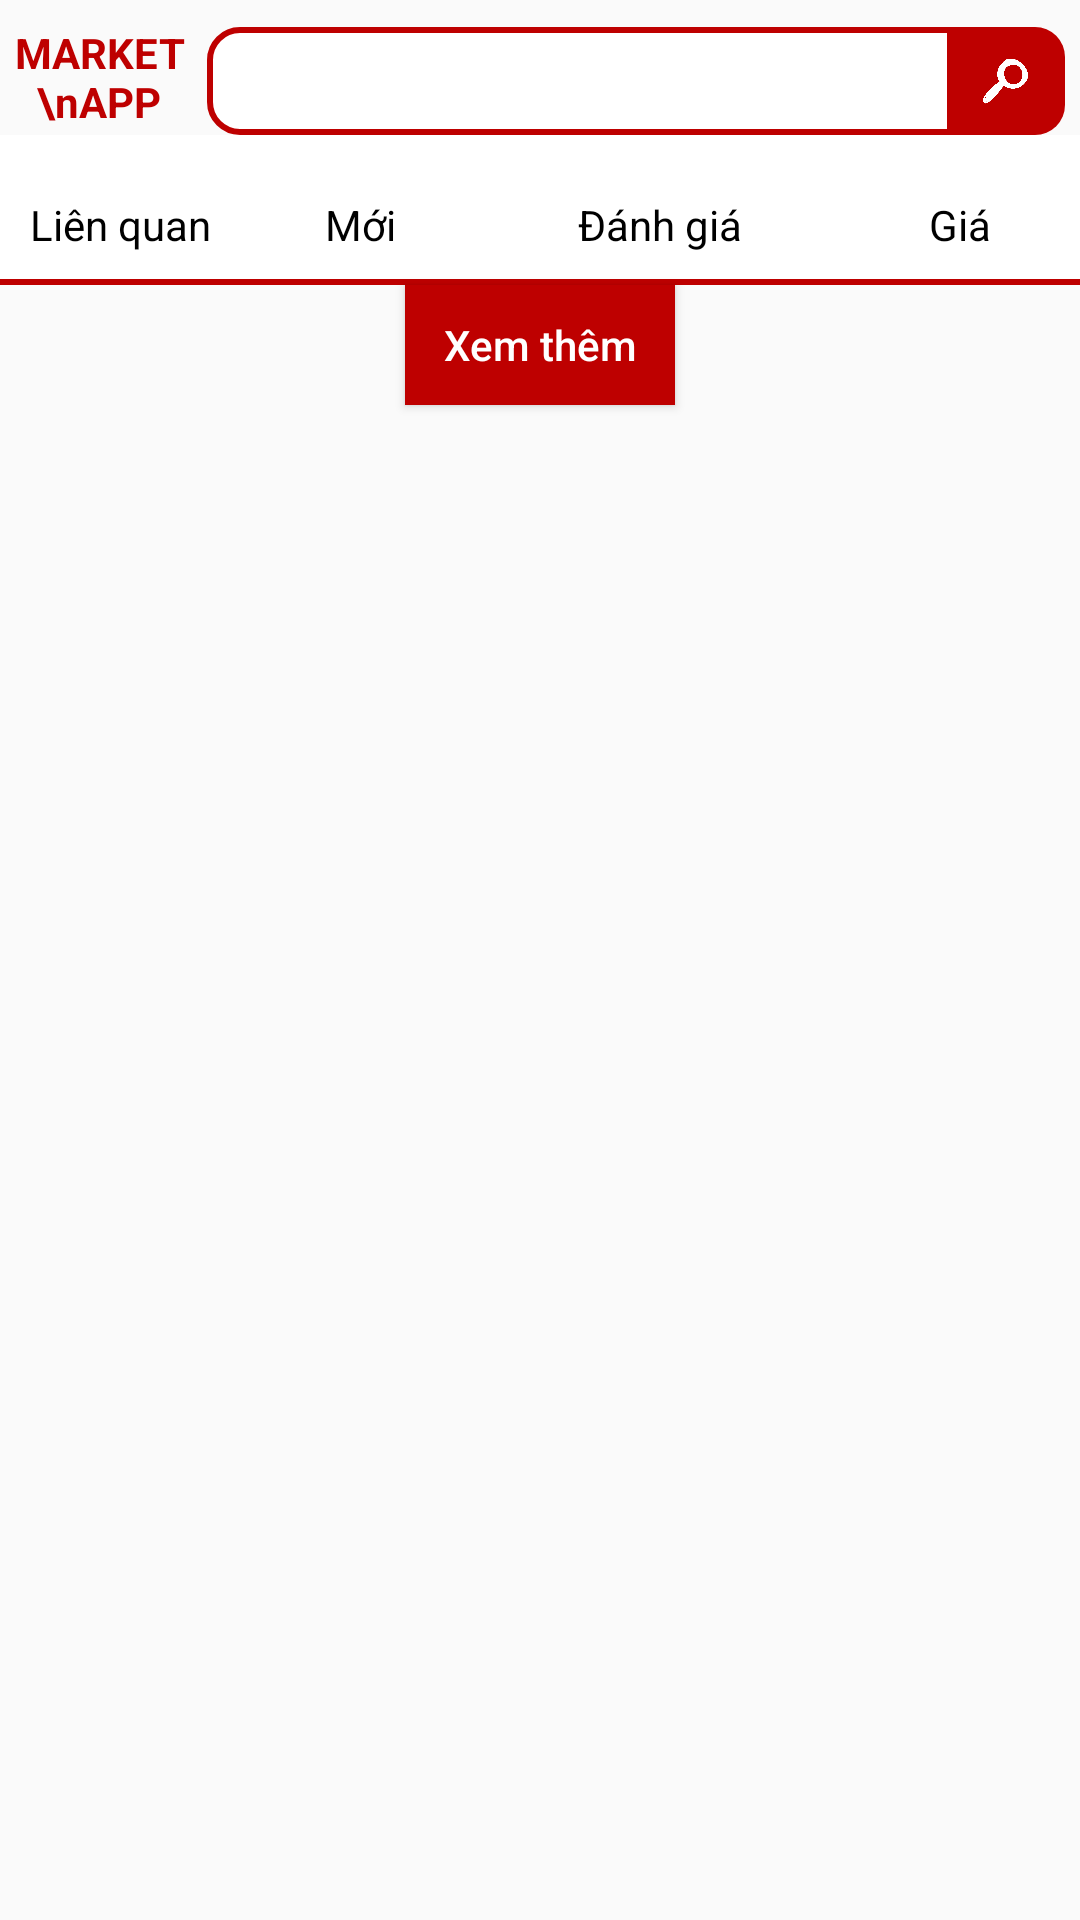

Named icons in this screenshot (1080w x 1920h) and their bounding boxes, (x1=x1, y1=y1, x2=x2, y2=y2):
search: (x1=983, y1=59, x2=1028, y2=104)
